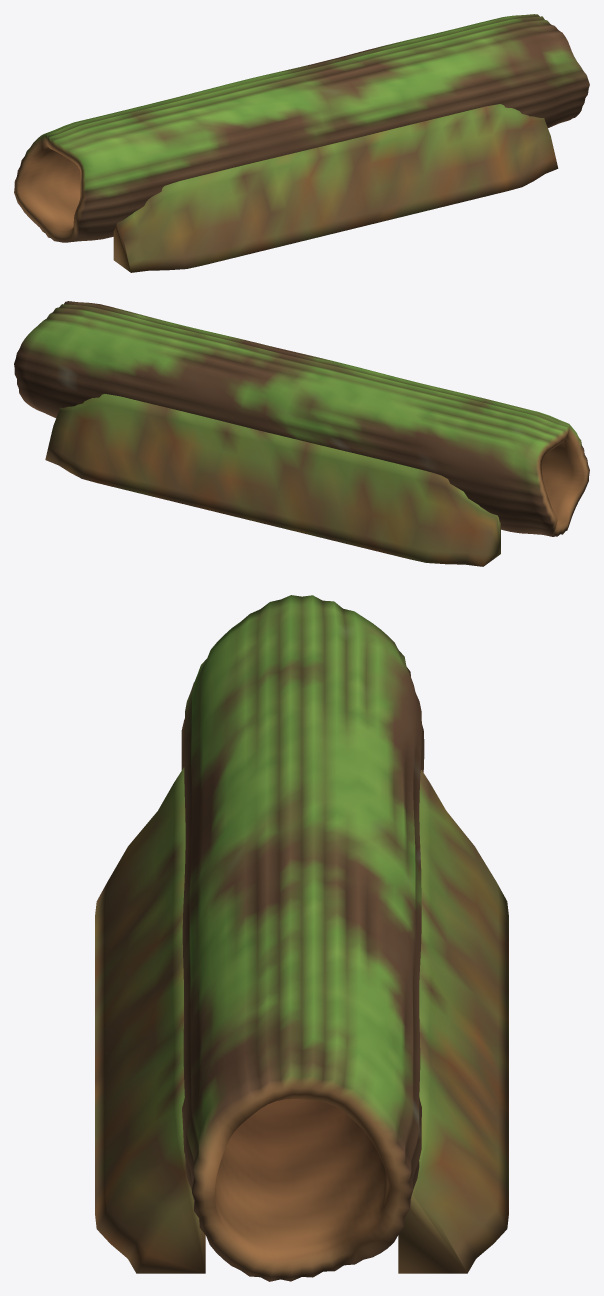
File: HollowLog.fbx
The picture shows the model from 3 angles, top to bottom: view 1: azimuth 30°, elevation 25°; view 2: azimuth 150°, elevation 25°; view 3: azimuth 270°, elevation 25°; orthographic projection. The views are drawn at different scales.
Visible parts, largest first — view 1: HollowLog; view 2: HollowLog; view 3: HollowLog.
Part boxes in pixels (x1,y1,x2,y2): HollowLog: (14,14,589,272); HollowLog: (14,301,589,566); HollowLog: (95,595,508,1281).
Size of the model in its own units: 50.27 by 10.75 by 17.2.
